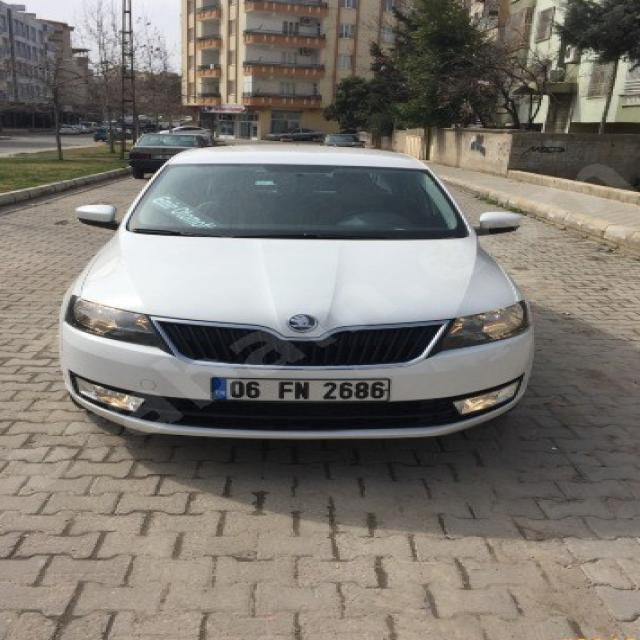license_plate: (211, 377, 389, 400)
